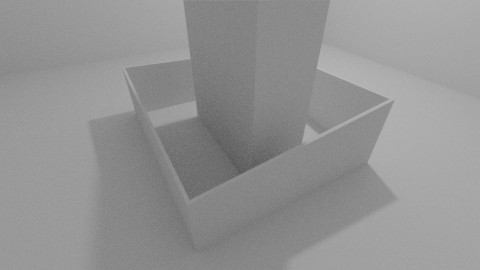cheminee: (183, 1, 330, 188)
eaf: (190, 99, 390, 248)
